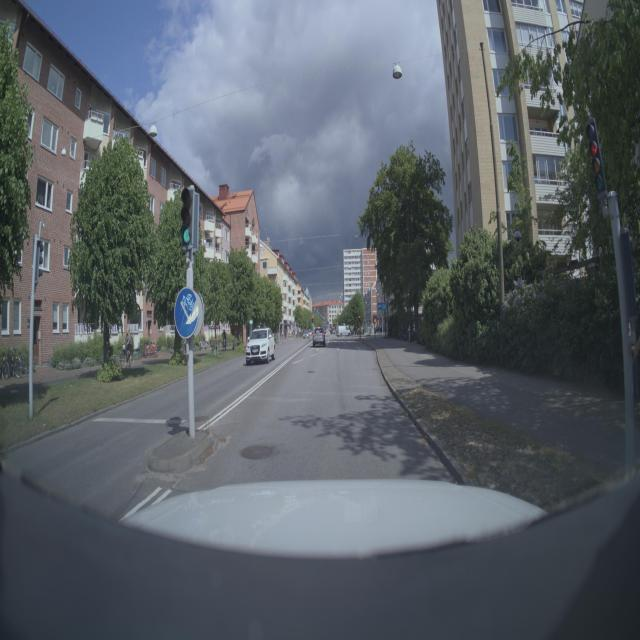green_light: (160, 170, 208, 266)
red_light: (564, 116, 616, 210)
